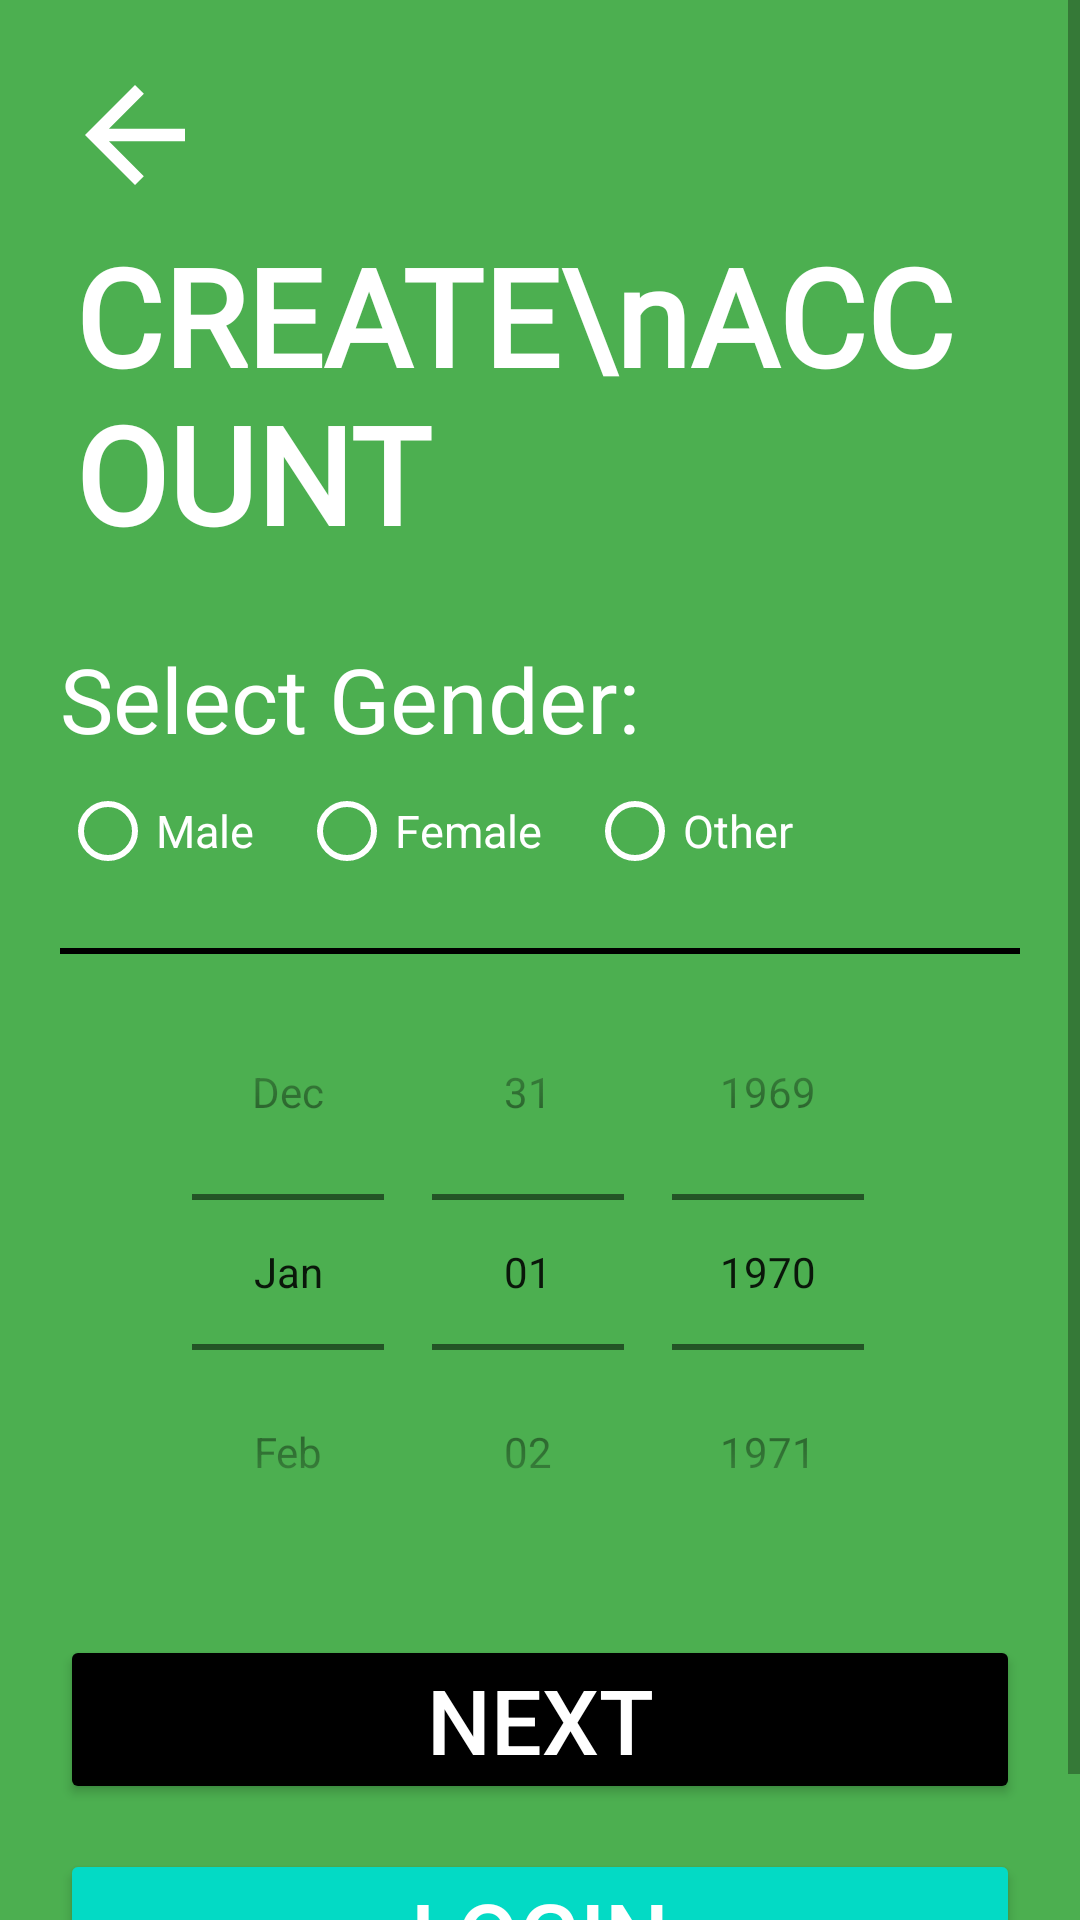

Icon click points for this 1080px x 1920px phone screenshot, format (x=x, y=y):
arrow back: (x=135, y=135)
